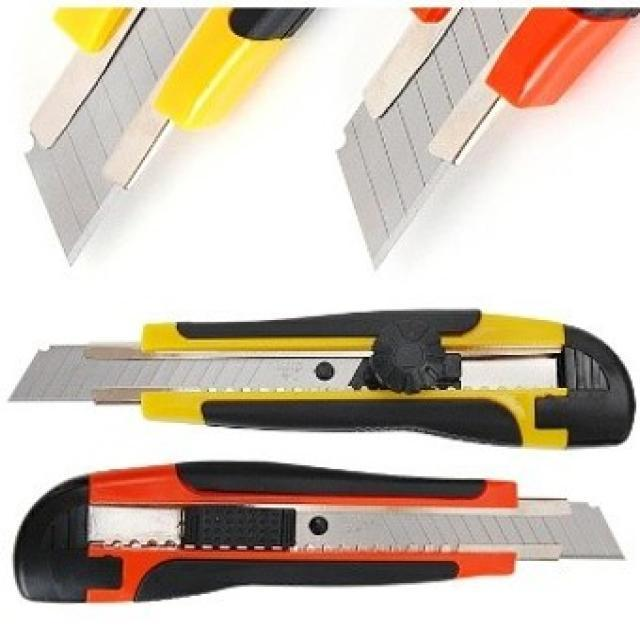cutter: (4, 294, 640, 456), (23, 458, 636, 608), (30, 0, 326, 274), (347, 0, 640, 274)
